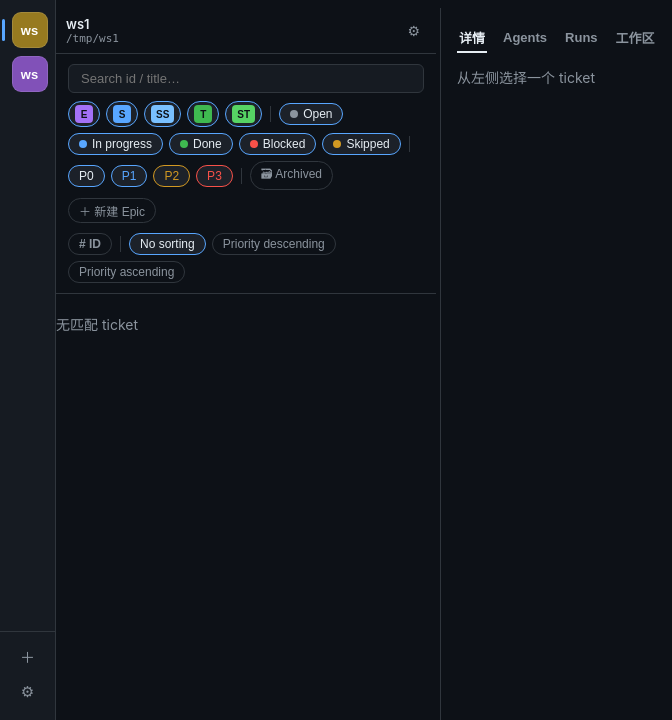
Test: U1 点击切换（懒声明） › 点击未开的第二个图标：declareHome → selectHome；ticket 栏顶部显示显示名与路径；homeId 轮换回写列表
Expected: the text with class "workspace-name" reads "ws1", x1=66 y1=16 x2=90 y2=32
What coordinates should you click on to do the following:
click the 2nd button titled "ws2（/tmp）"
I would click on:
 (30, 74)
Its box is x1=12 y1=56 x2=48 y2=92.
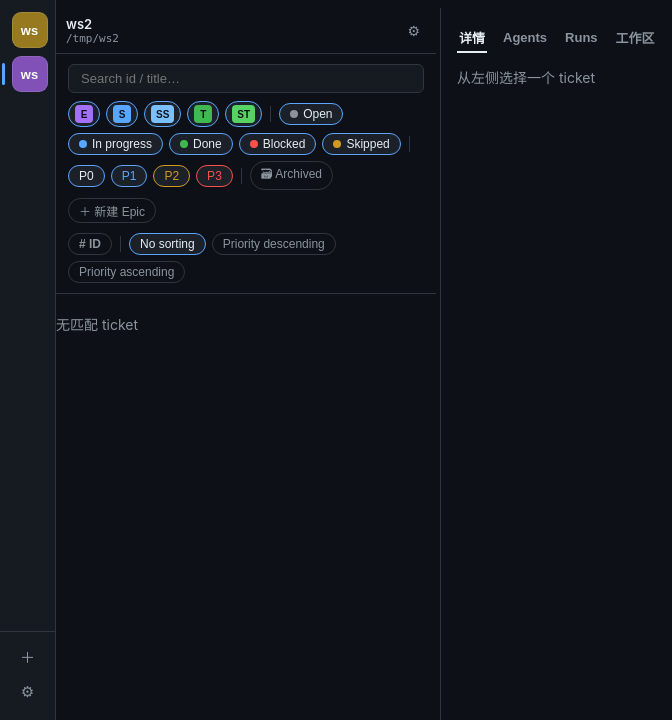
Result: the text with class "workspace-name" reads "ws2" at x1=66 y1=16 x2=92 y2=32
Result: the text with class "workspace-path" reads "/tmp/ws2" at x1=66 y1=32 x2=119 y2=45
